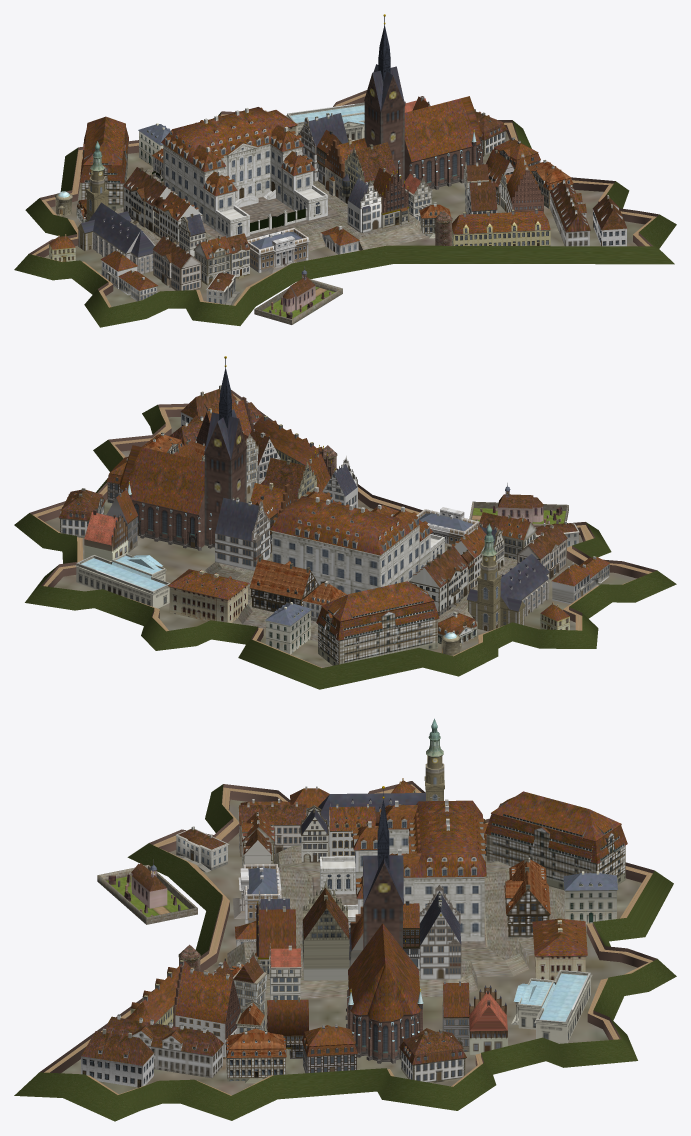
3 views of the same model, one above another, from view 1: azimuth 30°, elevation 25°; view 2: azimuth 150°, elevation 25°; view 3: azimuth 270°, elevation 25° (orthographic). The views are drawn at different scales.
Parts seen in each view (by area): view 1: Object_6, Object_4, Object_2, Object_5, Object_7, Object_3; view 2: Object_6, Object_2, Object_7, Object_4, Object_3, Object_5; view 3: Object_6, Object_2, Object_7, Object_3, Object_4, Object_5.
Boxes of the visible parts, box(x1,y1,x2,y2) form: Object_6: box(14, 90, 676, 327); Object_4: box(161, 107, 409, 239); Object_2: box(77, 108, 626, 300); Object_5: box(364, 14, 483, 189); Object_7: box(55, 97, 509, 324); Object_3: box(77, 102, 573, 273); Object_6: box(14, 385, 676, 689); Object_2: box(58, 386, 595, 665); Object_7: box(84, 441, 568, 655); Object_4: box(269, 445, 444, 594); Object_3: box(59, 431, 549, 629); Object_5: box(119, 356, 247, 550); Object_6: box(14, 778, 676, 1121); Object_2: box(102, 776, 627, 1085); Object_7: box(97, 810, 587, 1063); Object_3: box(226, 718, 592, 1083); Object_4: box(256, 800, 486, 957); Object_5: box(345, 786, 423, 1063).
Bounding box in the file's own units: 0.2734 × 0.085 × 0.2301.
Materials: 1 (1 with a texture image).
